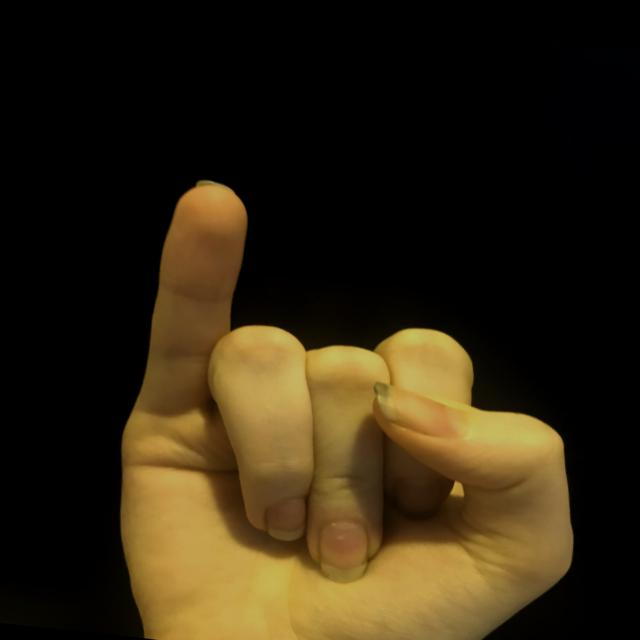I: (98, 161, 605, 639)
